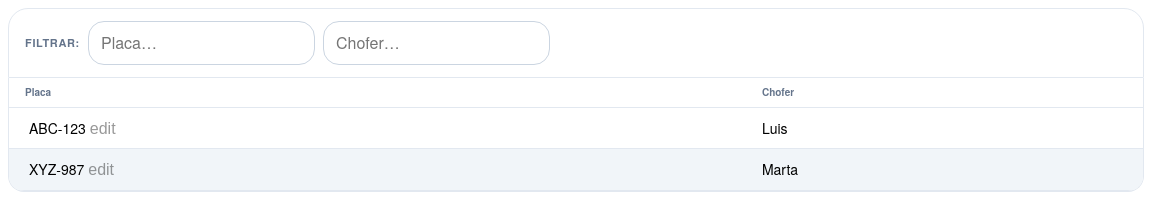
Test case: conformance canon · filters-inline-edit › fie-2: el resultado del filtrado se anuncia con las filas restantes
This screenshot has width=1152, height=209.
Type "ABC" into the field named "Filtrar por Placa". click: (202, 43)
box: [101, 32, 302, 54]
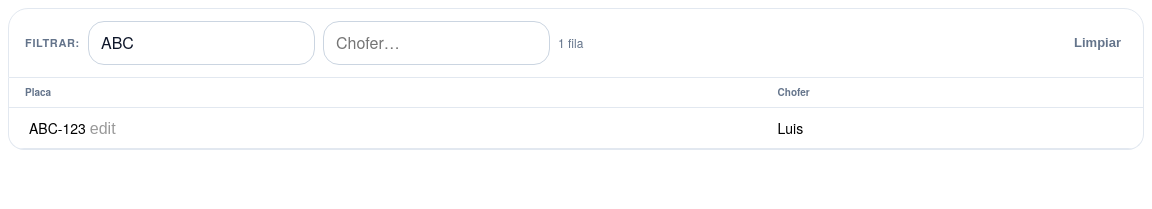
Expected: the text "1 fila" is shown, [558, 34, 583, 52]
